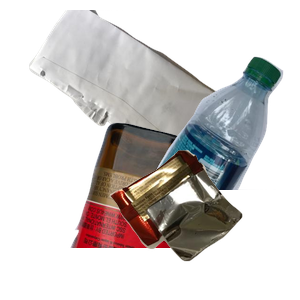glass: (68, 120, 255, 300)
paper: (27, 10, 252, 187)
plastic: (142, 54, 300, 234)
trash: (107, 148, 300, 300)
